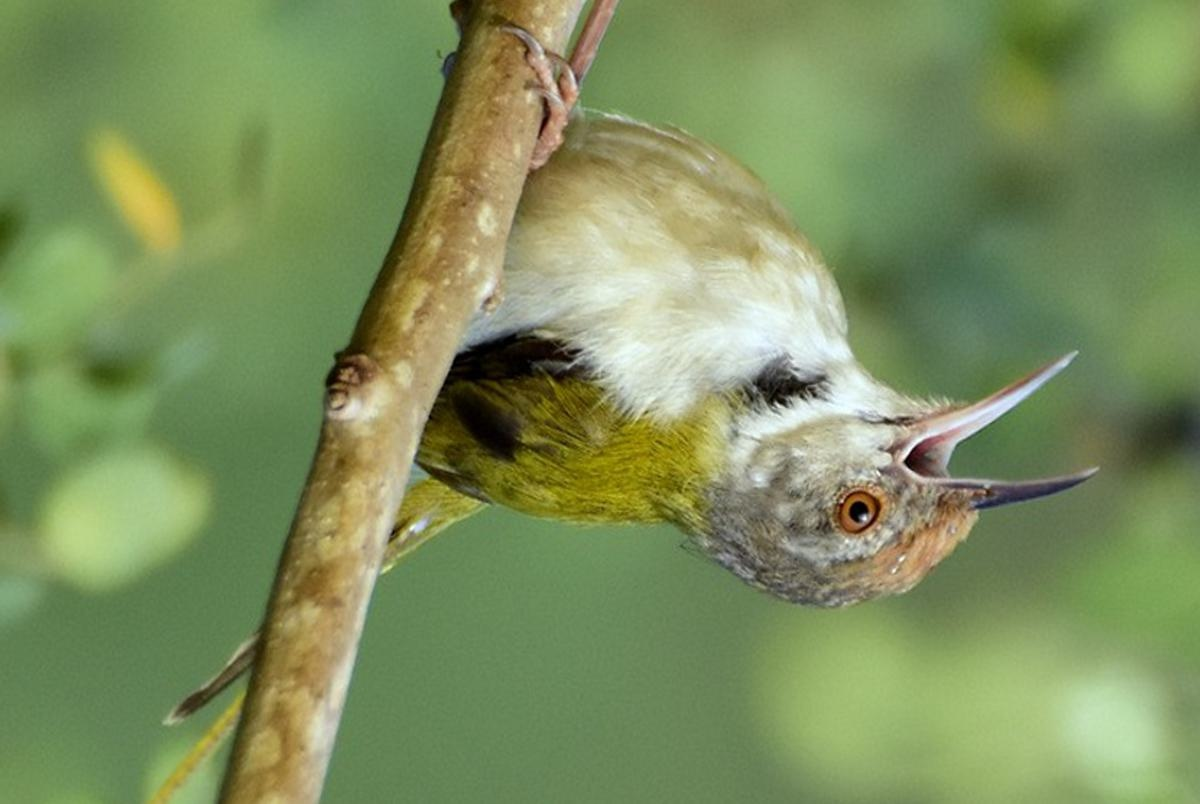tailorbird: (356, 136, 1076, 603)
